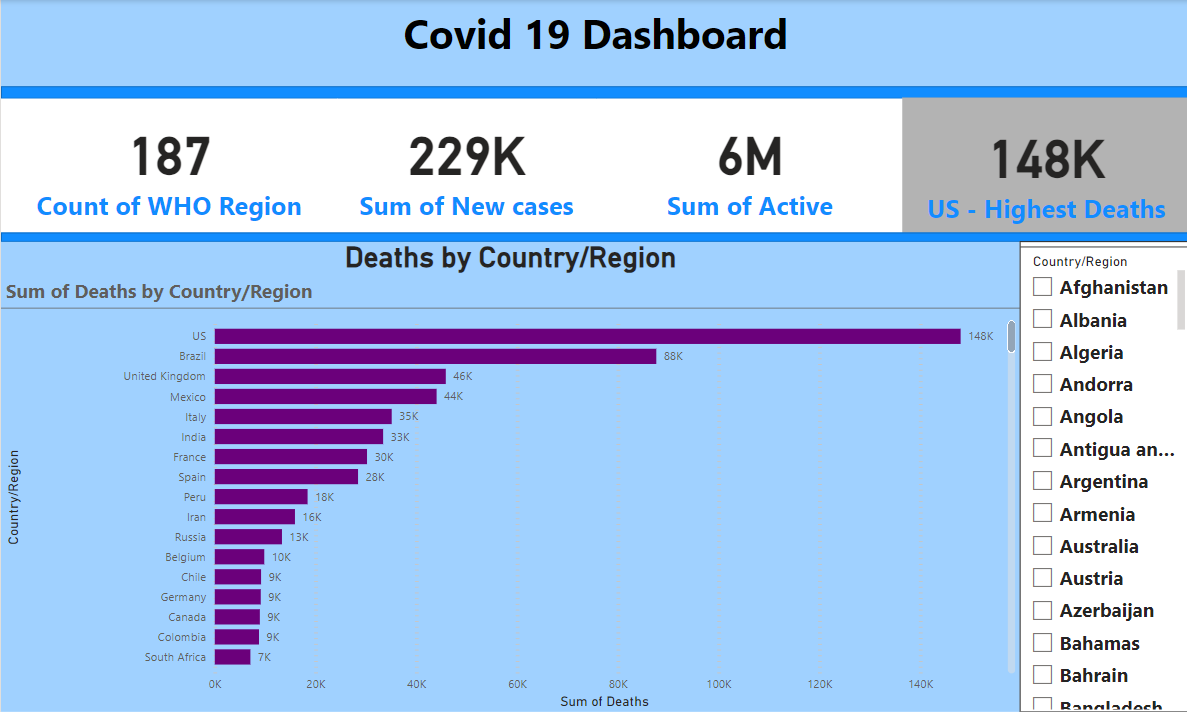

What the dashboard file says about the page in this screenshot:
{"tool":"powerbi","page":{"name":"2) Covid-19","canvas":[1250,750],"ordinal":1},"visuals":[{"type":"shape","box":[0,90.1,1250,13.1],"z":0},{"type":"textbox","box":[0,0,1250,90.1],"z":1000},{"type":"card","fields":{"Values":["CountNonNull(country_wise_latest.WHO Region)"]},"box":[0,103.2,353.9,140.9],"z":2000},{"type":"card","fields":{"Values":["Sum(country_wise_latest.New cases)"]},"box":[353.9,103.2,272,140.9],"z":3000},{"type":"card","fields":{"Values":["Sum(country_wise_latest.Active)"]},"box":[625.8,103.2,321.1,140.9],"z":4000},{"type":"clusteredBarChart","title":"Deaths by Country/Region","fields":{"Category":["country_wise_latest.Country/Region"],"Y":["Sum(country_wise_latest.Deaths)"]},"box":[0,252.6,1071,497.1],"z":5000},{"type":"card","fields":{"Values":["Max(country_wise_latest.Deaths)"]},"box":[947,103,303,150],"z":6000},{"type":"shape","box":[0,244.1,1250,9.8],"z":7000},{"type":"slicer","fields":{"Values":["country_wise_latest.Country/Region"]},"box":[1071,254,179,496],"z":7001}]}

Visuals, with their boxes in screenshot pixels (x1, y1, x2, y2), scaled from the page's 1250x750 canvas onto the 1187x712 screenshot:
shape: x1=0, y1=86, x2=1186, y2=98
textbox: x1=0, y1=0, x2=1186, y2=86
card - CountNonNull(country_wise_latest.WHO Region): x1=0, y1=98, x2=336, y2=232
card - Sum(country_wise_latest.New cases): x1=336, y1=98, x2=594, y2=232
card - Sum(country_wise_latest.Active): x1=594, y1=98, x2=899, y2=232
"Deaths by Country/Region" clusteredBarChart: x1=0, y1=240, x2=1017, y2=711
card - Max(country_wise_latest.Deaths): x1=899, y1=98, x2=1186, y2=240
shape: x1=0, y1=232, x2=1186, y2=241
slicer - country_wise_latest.Country/Region: x1=1017, y1=241, x2=1186, y2=711
